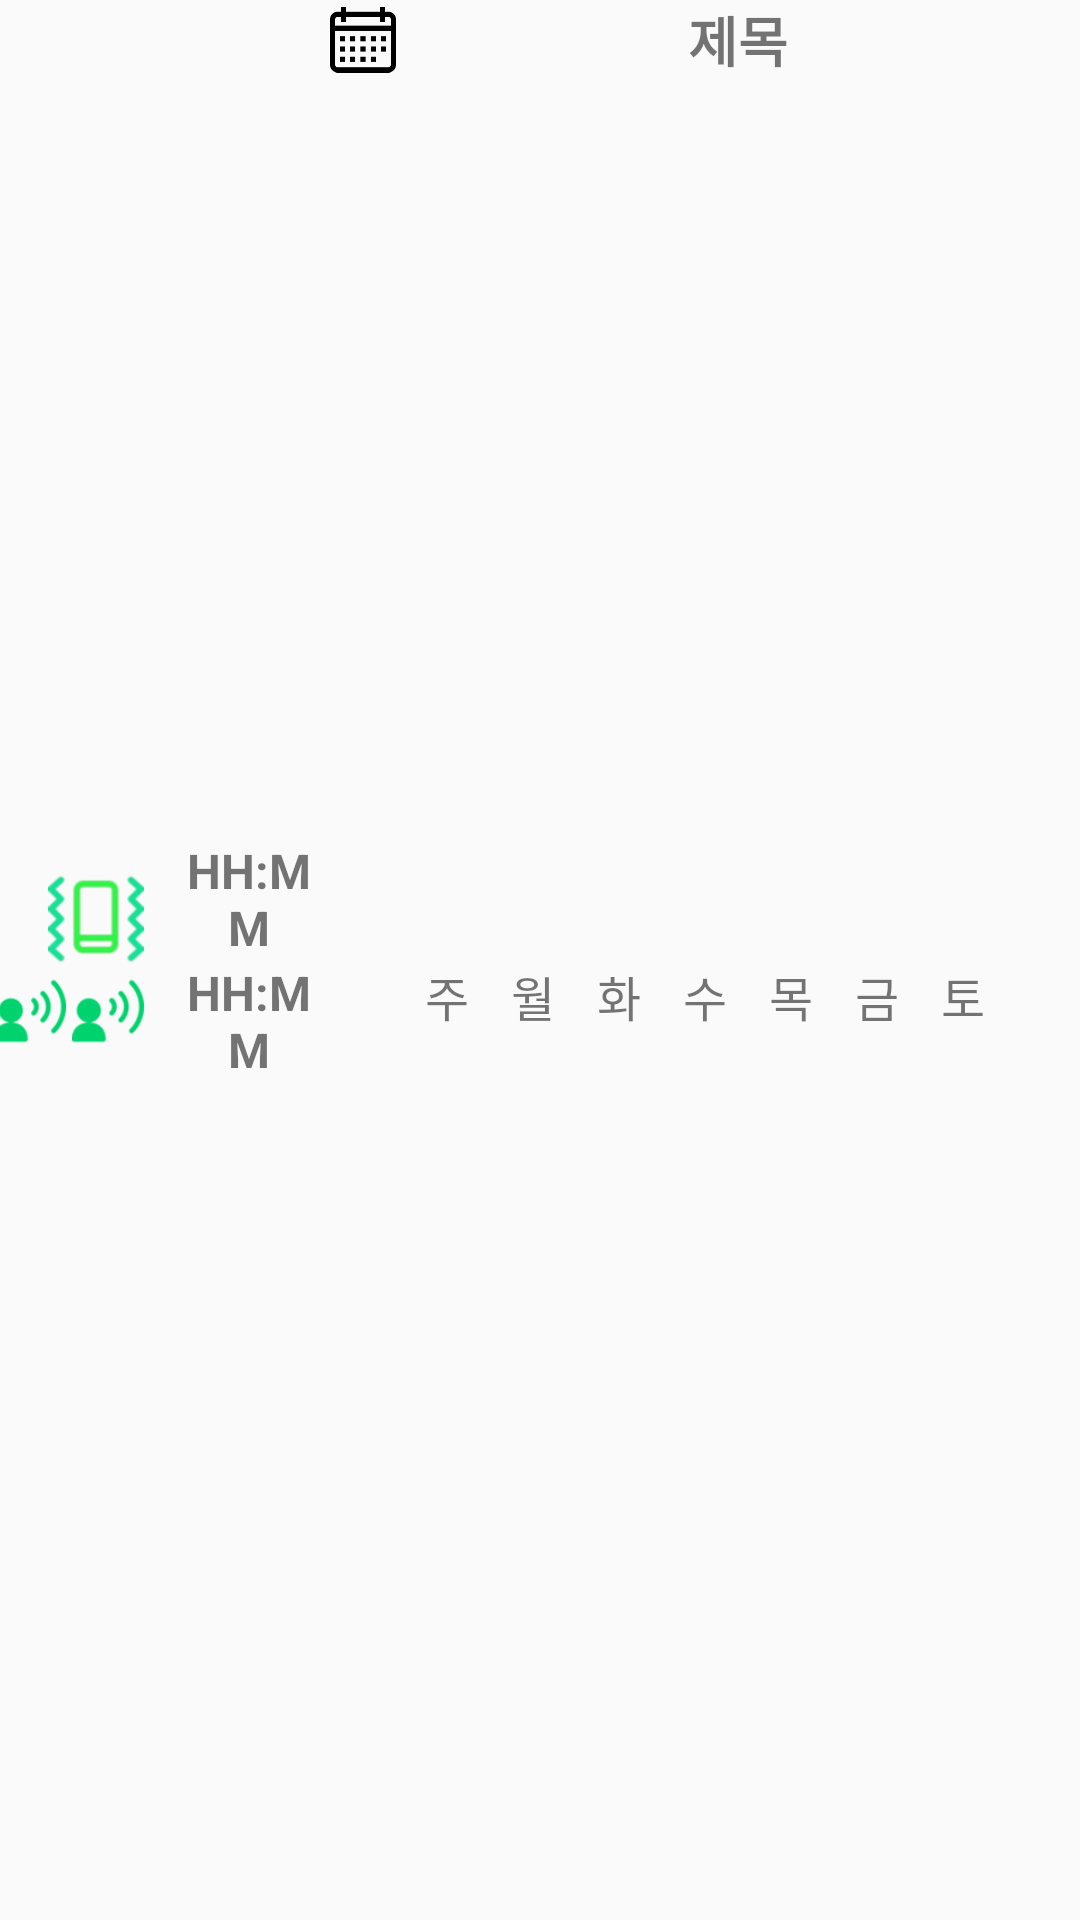

Named icons in this screenshot (1080x1920) and their bounding boxes, box=[x1, y1, x2, y2]:
calendar: box=[330, 7, 396, 73]
phone vibrate: box=[48, 876, 144, 962]
speaking on: box=[0, 979, 66, 1043], box=[72, 979, 144, 1043]
